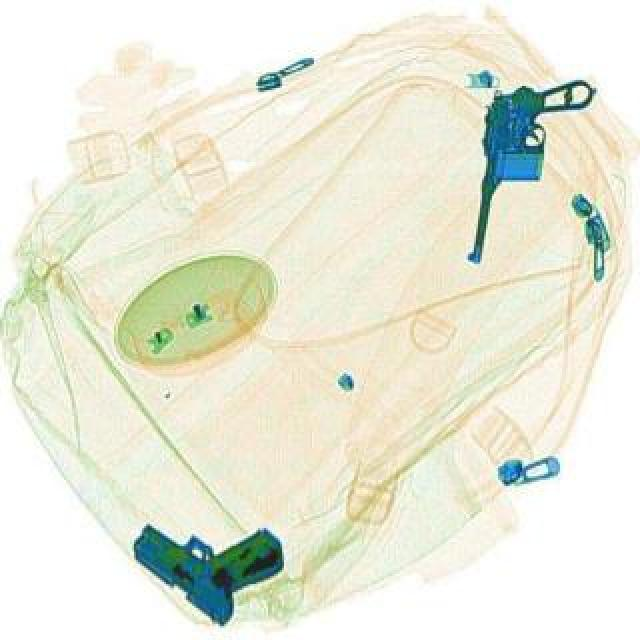gun: (118, 478, 294, 634), (462, 76, 594, 280)
